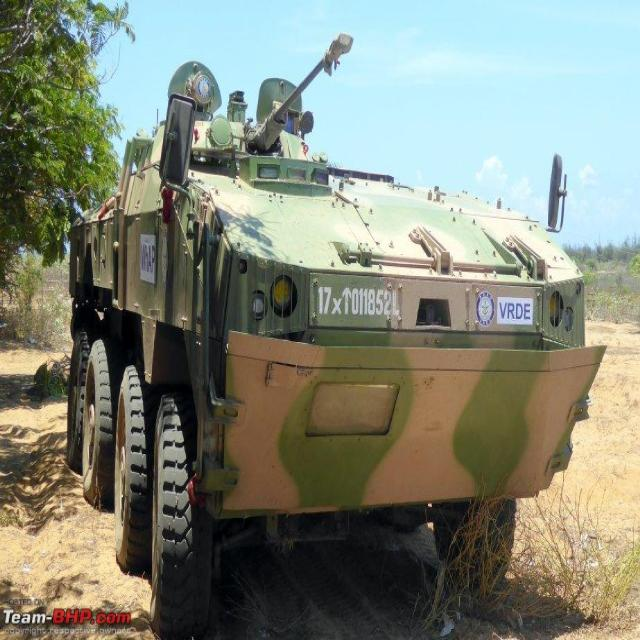military-plate: (314, 280, 406, 324)
